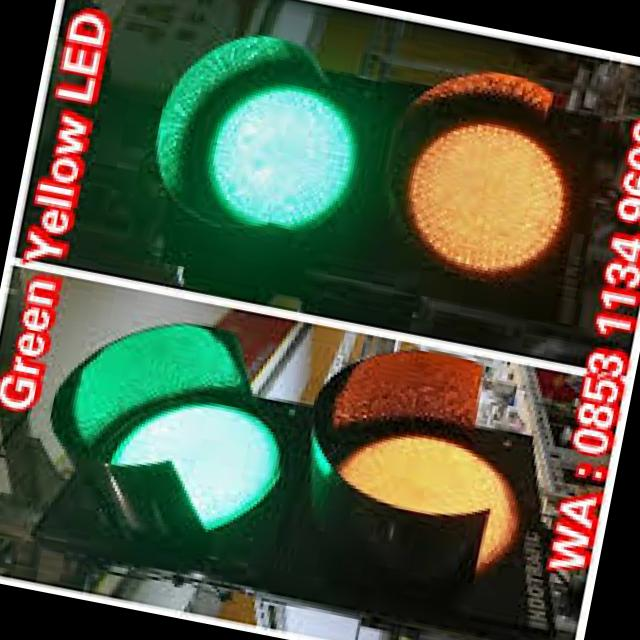green-lights: (99, 382, 292, 542), (194, 69, 369, 243)
yellow-lights: (318, 419, 530, 575), (396, 109, 578, 282)
